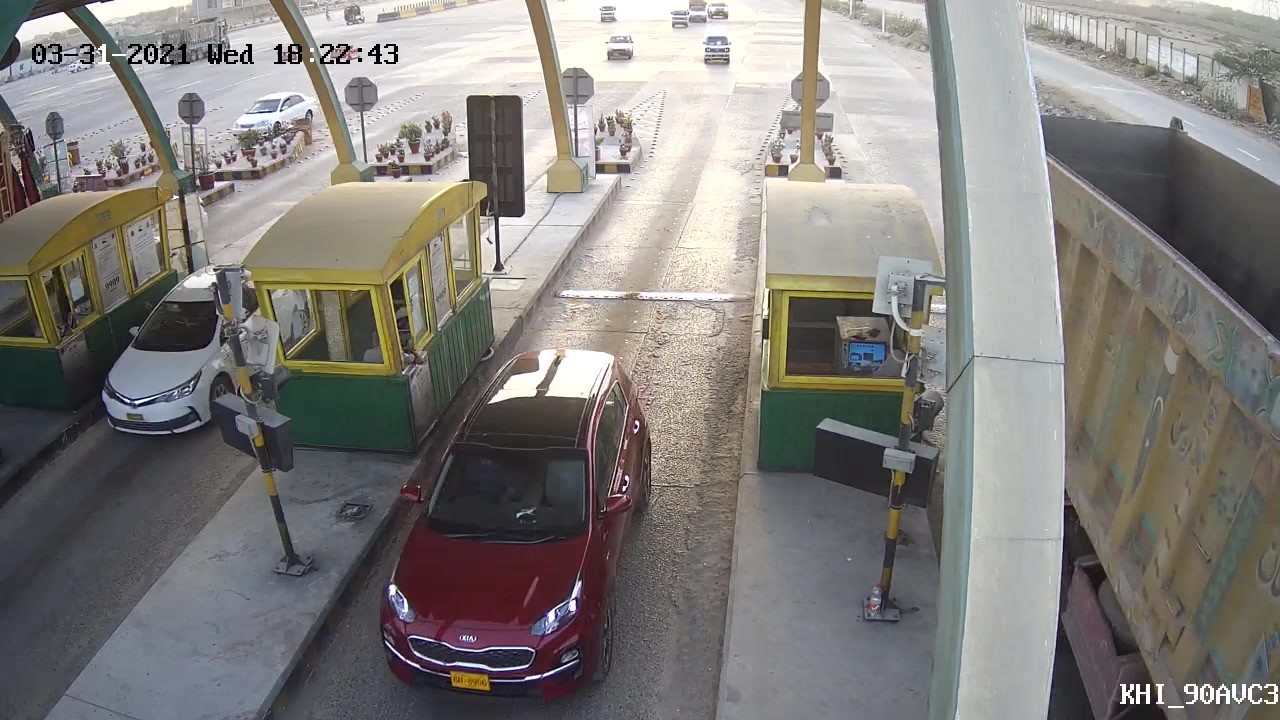F1: (372, 343, 662, 705)
